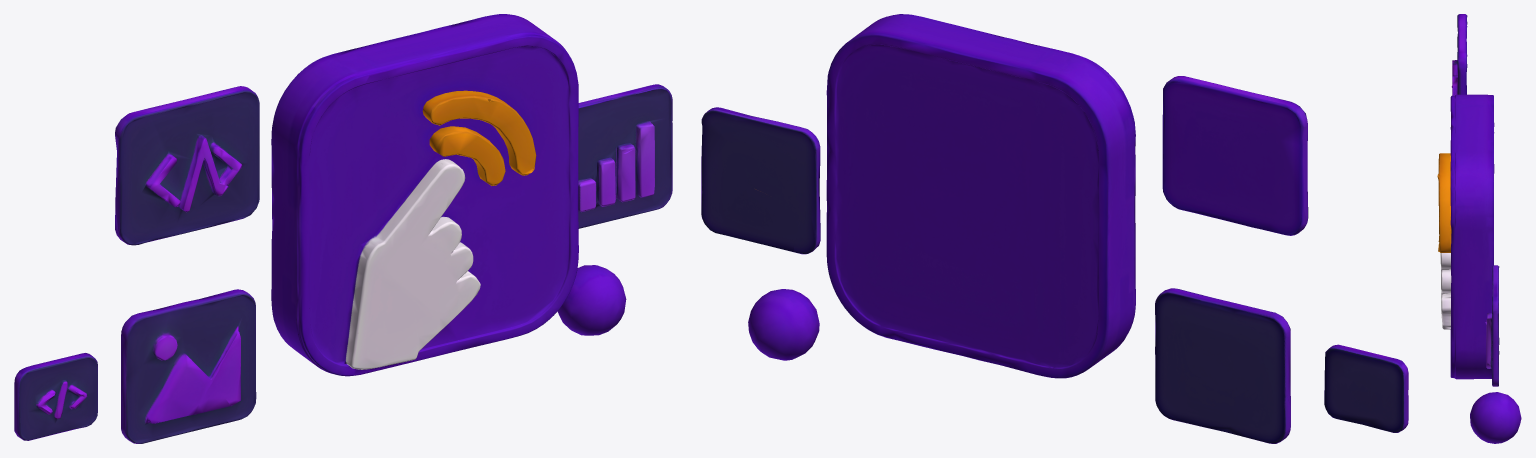
Rendered from touch interface icons 3d model.glb.
The picture shows the model from 3 angles, left to right: view 1: azimuth 30°, elevation 25°; view 2: azimuth 150°, elevation 25°; view 3: azimuth 270°, elevation 25°; orthographic projection. The views are drawn at different scales.
Visible parts, largest first — view 1: tripo_node_295fff05-e416-4613-bb7b-72c80455f545; view 2: tripo_node_295fff05-e416-4613-bb7b-72c80455f545; view 3: tripo_node_295fff05-e416-4613-bb7b-72c80455f545.
Boxes of the visible parts, <box> form: tripo_node_295fff05-e416-4613-bb7b-72c80455f545: <box>14,14,672,443</box>; tripo_node_295fff05-e416-4613-bb7b-72c80455f545: <box>701,14,1408,443</box>; tripo_node_295fff05-e416-4613-bb7b-72c80455f545: <box>1437,14,1521,443</box>.
Size of the model in its own units: 0.9799 by 0.4869 by 0.1448.
Materials: 1 (1 with a texture image).
